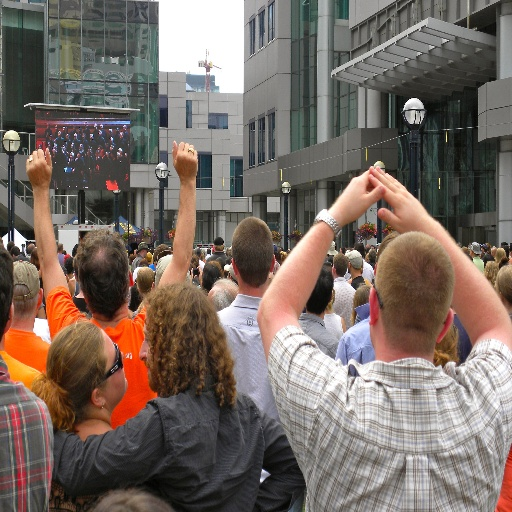hand: (329, 169, 386, 225), (25, 147, 52, 191), (171, 139, 199, 179), (189, 266, 194, 289), (196, 264, 202, 281), (64, 273, 69, 282), (122, 150, 127, 158), (71, 165, 75, 173), (95, 162, 98, 171), (80, 170, 83, 174), (68, 155, 71, 158)
